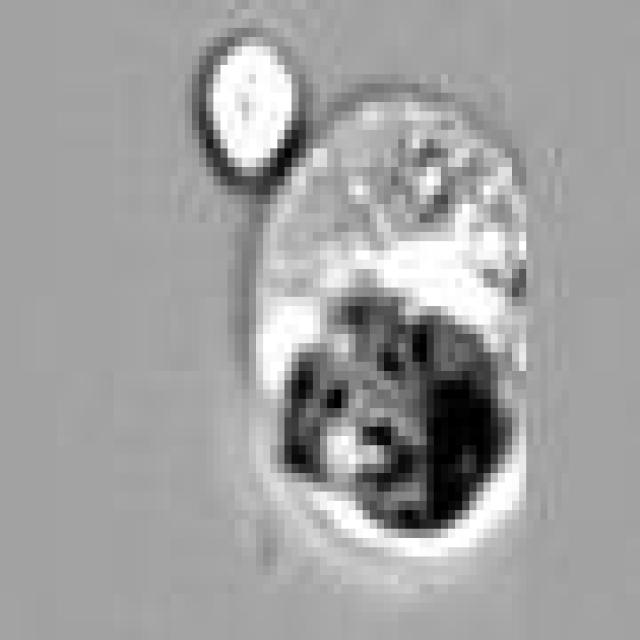Cancer Cell: (256, 93, 540, 547)
WBC: (199, 28, 320, 185)
